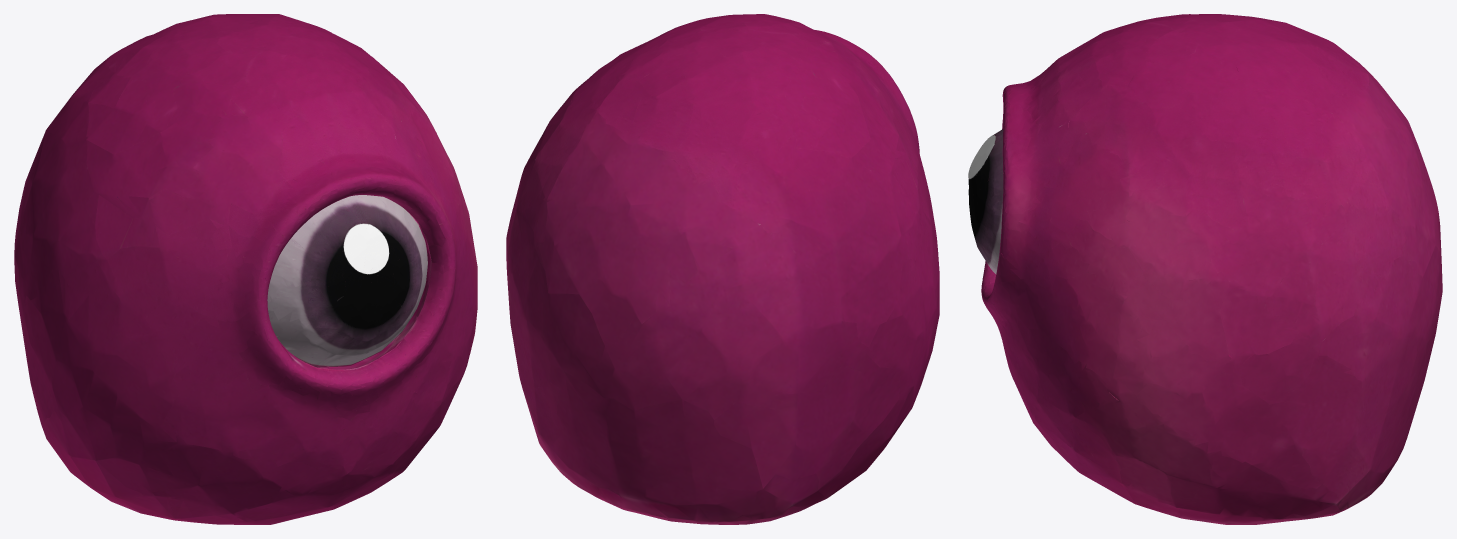
The model's file is volley_emitter.glb.
3 renders of one model, left to right at view 1: azimuth 30°, elevation 25°; view 2: azimuth 150°, elevation 25°; view 3: azimuth 270°, elevation 25°, orthographic. The views are drawn at different scales.
Size of the model in its own units: 1.71 by 1.9 by 1.81.
1 material, 1 textured.
